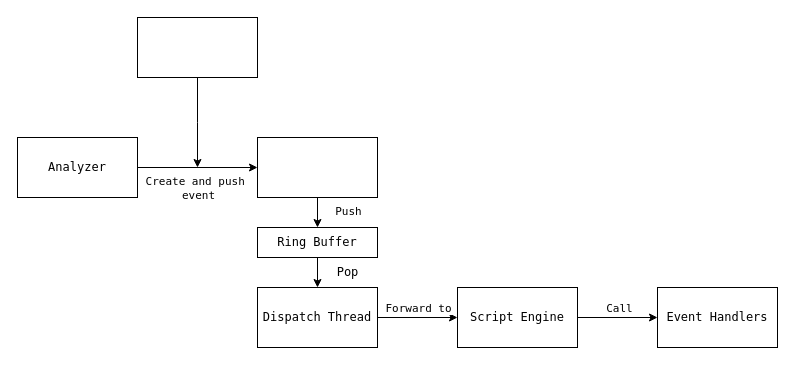
This 795x365 diagram has some shape labels left out. Here are the shapes that lost their labels. From the top down, the centre of each, then its label:
At pixel 197 47: "Event - via Event Factory".
At pixel 317 167: "Event Manager".
